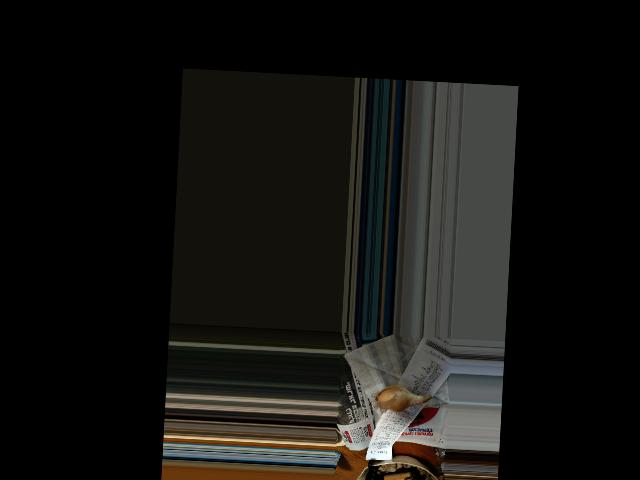onion: (376, 386, 419, 411)
